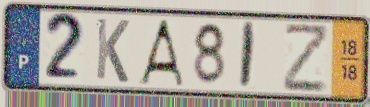2: (42, 10, 88, 88)
8: (191, 21, 227, 88)
A: (135, 18, 186, 89)
I: (237, 19, 258, 91)
K: (93, 15, 131, 85)
Z: (283, 23, 332, 94)
